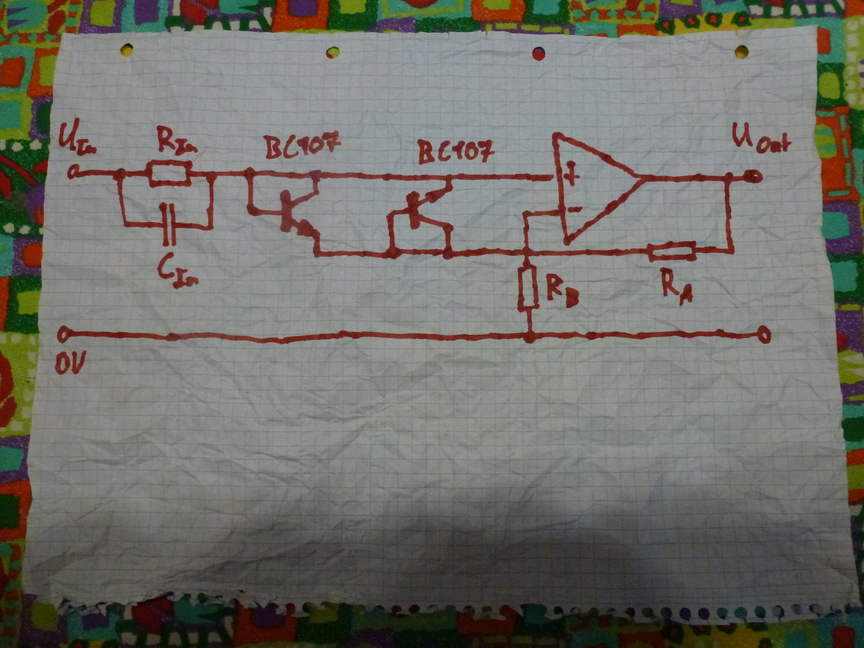capacitor.unpolarized: (156, 200, 181, 248)
junction: (521, 328, 539, 346), (111, 165, 128, 183), (203, 167, 220, 185), (383, 245, 401, 261), (440, 245, 455, 262), (241, 165, 256, 181), (245, 204, 260, 219), (721, 170, 735, 185), (307, 168, 323, 181), (119, 217, 133, 231), (724, 245, 738, 258), (520, 245, 533, 258), (310, 248, 323, 261), (203, 221, 216, 234), (520, 208, 533, 220), (384, 208, 398, 219), (444, 172, 454, 183)
operational_amplifier: (550, 130, 646, 247)
resistor: (144, 158, 196, 189), (645, 239, 699, 264), (516, 264, 542, 313)
terminal: (755, 323, 774, 347), (741, 168, 765, 186), (55, 323, 73, 344), (64, 162, 82, 181)
text: (261, 128, 343, 161), (415, 137, 497, 166), (730, 120, 793, 156), (156, 250, 200, 290), (56, 116, 98, 157), (659, 266, 697, 308), (155, 123, 199, 157), (544, 272, 581, 310), (53, 348, 88, 376)
transistor: (278, 186, 324, 242), (404, 185, 455, 234)
